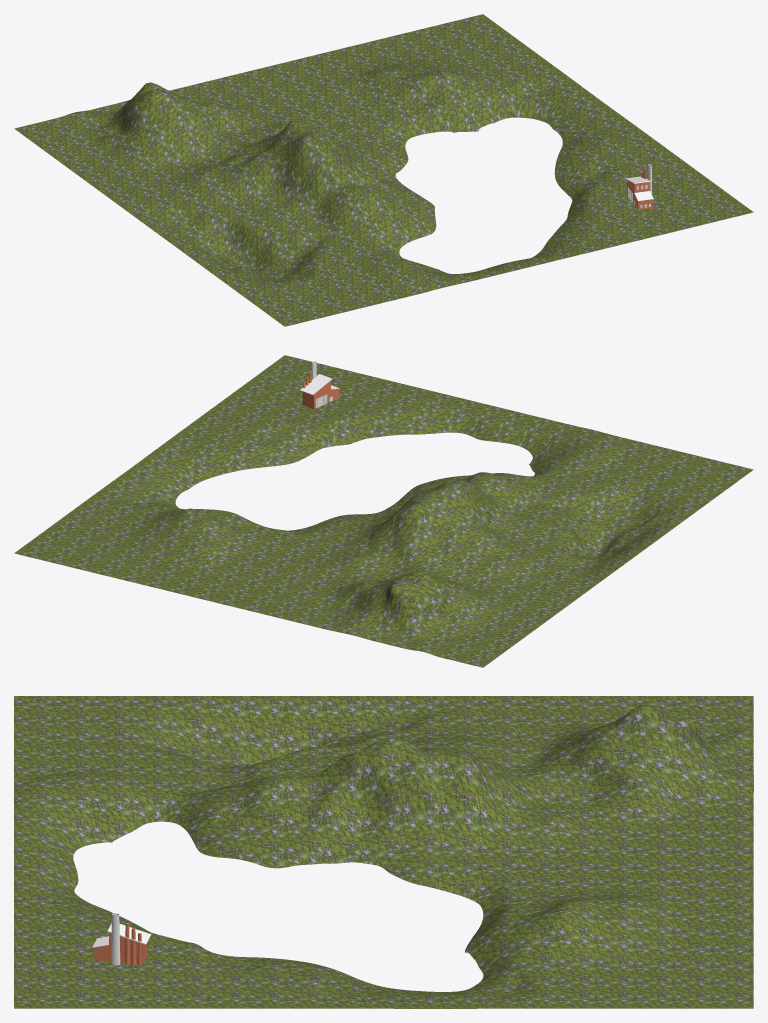
Rendered from factory.glb.
3 renders of one model, top to bottom at view 1: azimuth 30°, elevation 25°; view 2: azimuth 150°, elevation 25°; view 3: azimuth 270°, elevation 25°, orthographic. The views are drawn at different scales.
Parts seen in each view (by area): view 1: Landscape.002_Landscape.002_NormalOnly_0, Cube; view 2: Landscape.002_Landscape.002_NormalOnly_0, Cube; view 3: Landscape.002_Landscape.002_NormalOnly_0, Cube.
Boxes of the visible parts, bbox=[...] form: Landscape.002_Landscape.002_NormalOnly_0: bbox=[14, 14, 753, 326]; Cube: bbox=[625, 176, 653, 209]; Landscape.002_Landscape.002_NormalOnly_0: bbox=[14, 355, 753, 667]; Cube: bbox=[300, 374, 339, 409]; Landscape.002_Landscape.002_NormalOnly_0: bbox=[14, 696, 753, 1008]; Cube: bbox=[92, 923, 151, 964].
Size of the model in its own units: 2.48 by 0.3672 by 2.48.
Materials: 7 (1 with a texture image).
